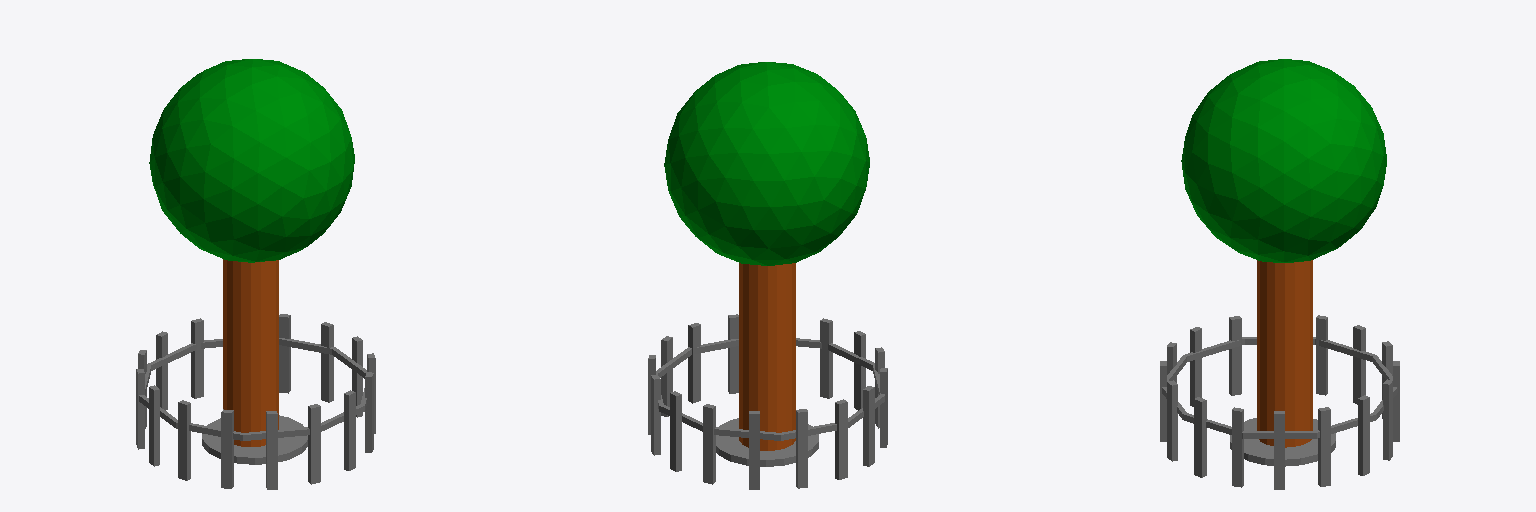
The model's file is city_tree_01.obj.
3 views of the same model, side by side, from view 1: azimuth 30°, elevation 25°; view 2: azimuth 150°, elevation 25°; view 3: azimuth 270°, elevation 25° (orthographic).
Parts seen in each view (by area): view 1: GeoSphere01, Tube01, Cylinder01, Box06, Box01, Box08, Box02, Box04, Box17, Box07, Box10, Box05 (+4 smaller); view 2: GeoSphere01, Tube01, Cylinder01, Box02, Box14, Box01, Box16, Box03, Box13, Box10, Box18, Box15 (+4 smaller); view 3: GeoSphere01, Tube01, Cylinder01, Box15, Box07, Box05, Box08, Box13, Box14, Box09, Box17, Box16 (+2 smaller).
Part boxes in pixels (x1,y1,x2,y2): GeoSphere01: (149, 59, 354, 446); Tube01: (139, 338, 366, 440); Cylinder01: (202, 415, 307, 464); Box06: (221, 409, 233, 488); Box01: (308, 404, 320, 484); Box08: (178, 400, 190, 480); Box02: (191, 318, 203, 398); Box04: (266, 411, 277, 489); Box17: (344, 390, 355, 470); Box07: (321, 322, 333, 402); Box10: (149, 385, 159, 466); Box05: (279, 314, 290, 393); GeoSphere01: (664, 62, 869, 450); Tube01: (656, 338, 884, 440); Cylinder01: (716, 418, 818, 466); Box02: (703, 404, 715, 484); Box14: (835, 399, 847, 479); Box01: (820, 318, 832, 398); Box16: (796, 409, 807, 488); Box03: (670, 391, 681, 471); Box13: (688, 323, 700, 403); Box10: (863, 386, 874, 466); Box18: (749, 411, 759, 489); Box15: (728, 314, 738, 393); GeoSphere01: (1181, 59, 1386, 447); Tube01: (1162, 337, 1397, 438); Cylinder01: (1230, 418, 1335, 466); Box15: (1194, 397, 1206, 477); Box07: (1318, 407, 1330, 486); Box05: (1358, 395, 1369, 475); Box08: (1229, 316, 1241, 395); Box13: (1232, 407, 1243, 487); Box14: (1316, 315, 1327, 395); Box09: (1274, 411, 1284, 489); Box17: (1167, 380, 1177, 461); Box16: (1353, 325, 1365, 404).
Bounding box in the file's own units: 5.73 × 9.86 × 5.73.